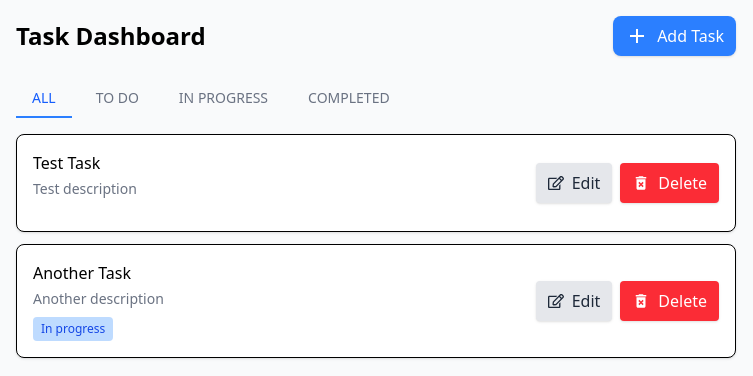
Test: DashboardPage › filters tasks when switching tabs
Click the button "In progress" at (224, 99), box [163,80,284,118]
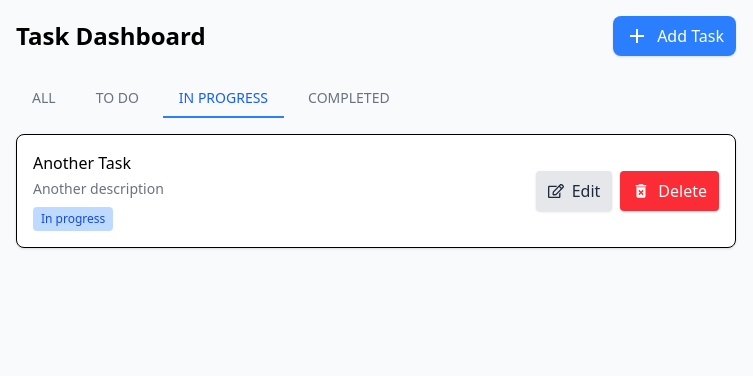
Expected: the text "Another Task" is shown, [33,152,131,174]
Result: the text "Test Task" is gone
